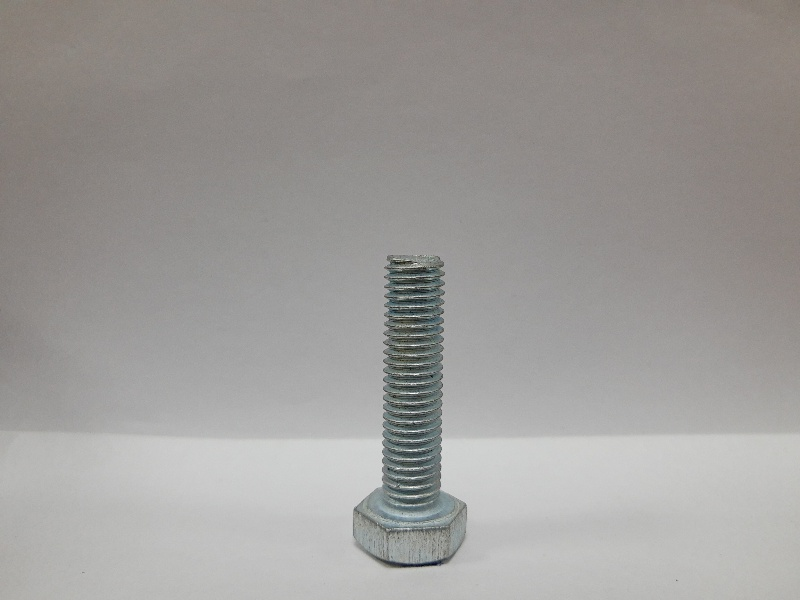pf: (345, 251, 489, 568)
